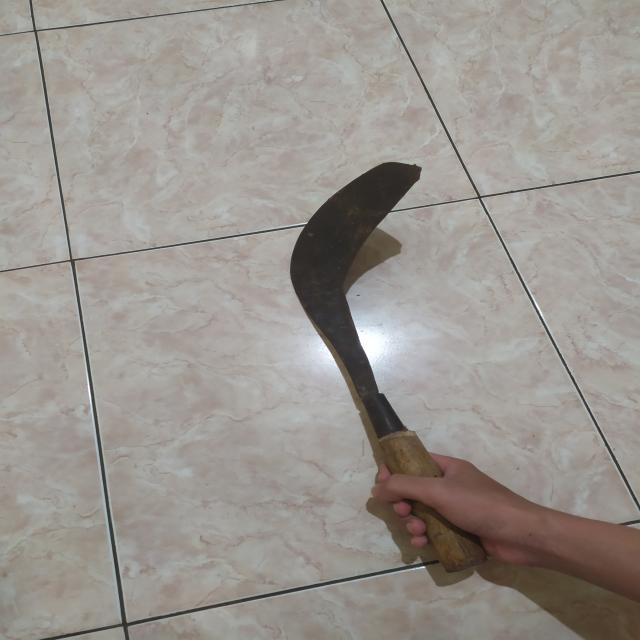Celurit: (289, 163, 485, 564)
